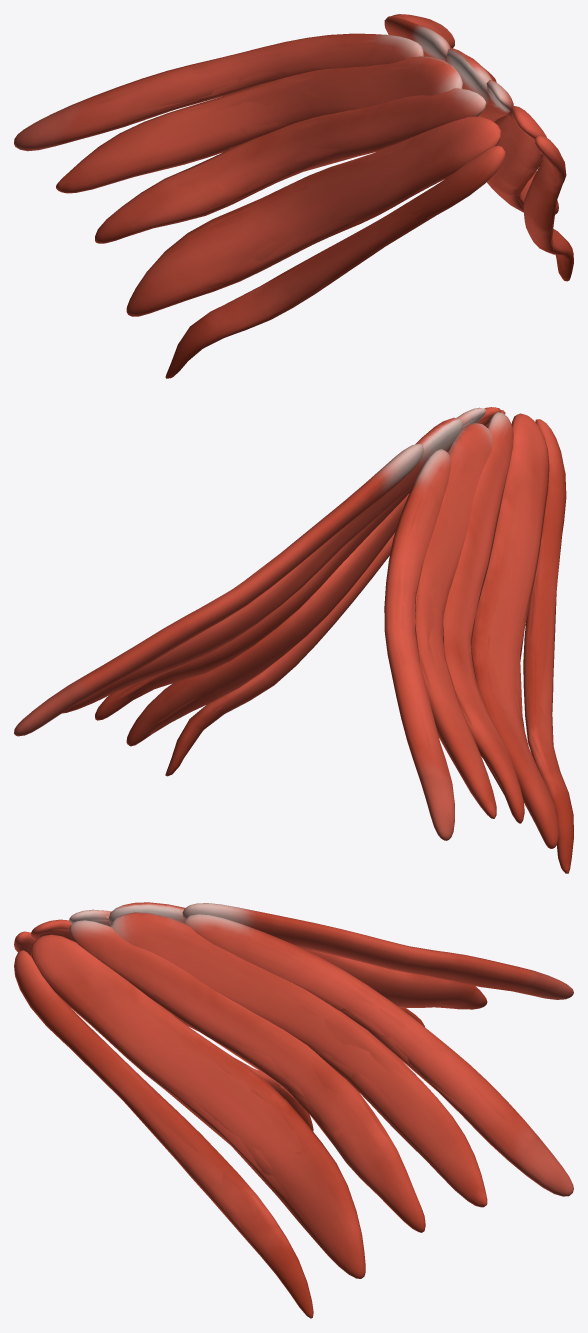
Rendered from serratus dorsalis cranialis.fbx.
3 views of the same model, one above another, from view 1: azimuth 30°, elevation 25°; view 2: azimuth 150°, elevation 25°; view 3: azimuth 270°, elevation 25° (orthographic). The views are drawn at different scales.
Parts seen in each view (by area): view 1: serratus dorsalis cranialis, serratus dorsalis cranialis low; view 2: serratus dorsalis cranialis, serratus dorsalis cranialis low; view 3: serratus dorsalis cranialis, serratus dorsalis cranialis low.
Boxes of the visible parts, box(x1,y1,x2,y2) form: serratus dorsalis cranialis: box(14, 14, 573, 378); serratus dorsalis cranialis low: box(94, 16, 571, 367); serratus dorsalis cranialis: box(14, 407, 573, 873); serratus dorsalis cranialis low: box(101, 416, 562, 799); serratus dorsalis cranialis: box(14, 902, 573, 1318); serratus dorsalis cranialis low: box(30, 911, 513, 1245).
Bounding box in the file's own units: 15.58 × 11.33 × 18.14.
Materials: 1 (1 with a texture image).
